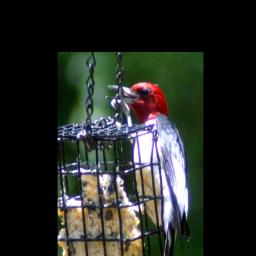Woodpecker: (103, 80, 191, 256)
